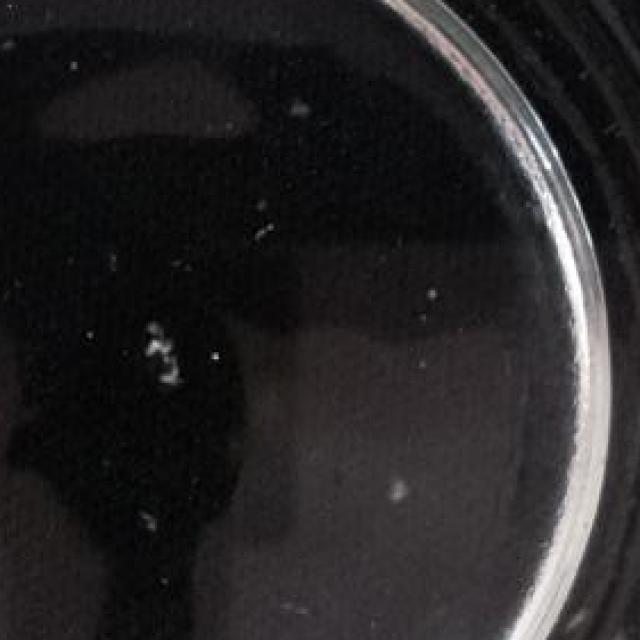Microplastic: (130, 321, 187, 395), (369, 462, 419, 516)
